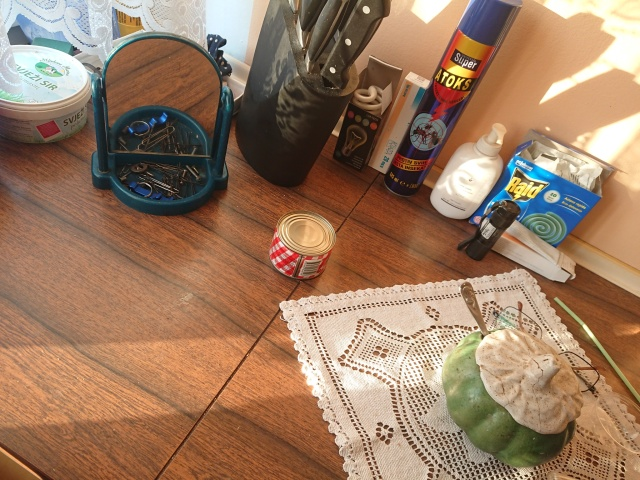Podravka Luncheon Meat 150g: (267, 208, 339, 283)
